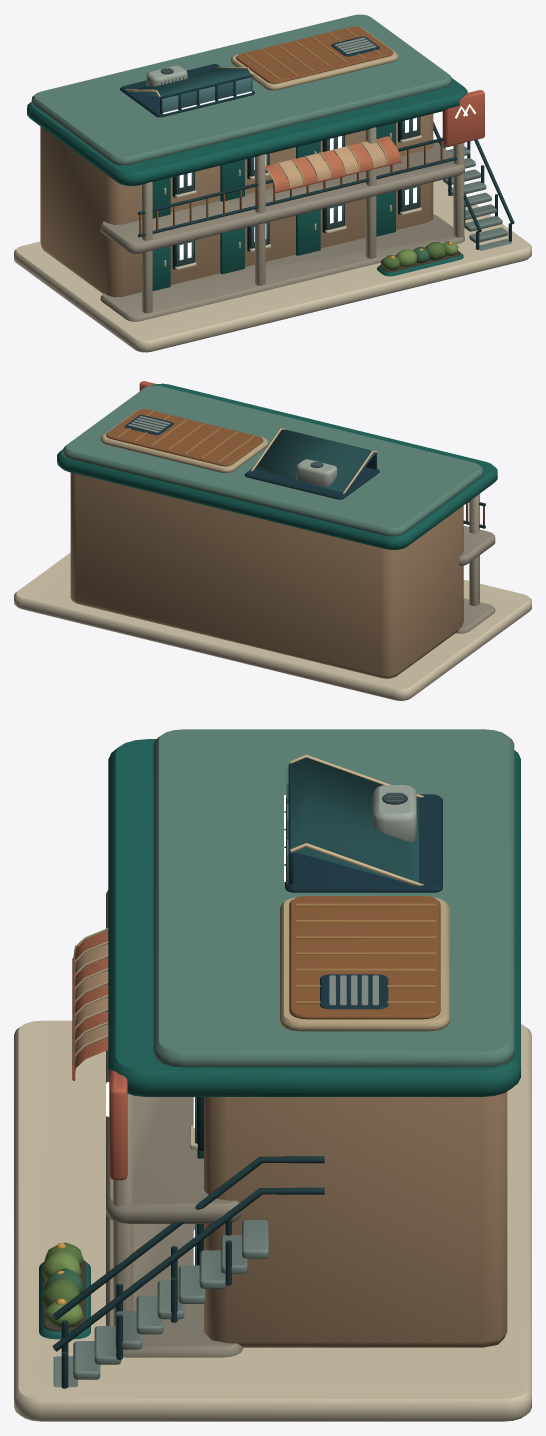
Rendered from motel.glb.
3 renders of one model, top to bottom at view 1: azimuth 30°, elevation 25°; view 2: azimuth 150°, elevation 25°; view 3: azimuth 270°, elevation 25°, orthographic. The views are drawn at different scales.
Parts seen in each view (by area): view 1: Motel; view 2: Motel; view 3: Motel.
Boxes of the visible parts, x1,y1,x2,y2 form: Motel: [14, 14, 531, 352]; Motel: [14, 381, 531, 700]; Motel: [14, 729, 531, 1421].
Size of the model in its own units: 10.82 by 4.93 by 6.2.
